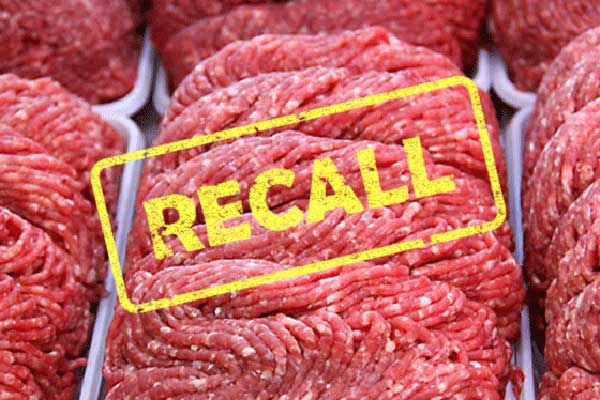ground_beef: (156, 272, 481, 388), (1, 21, 94, 288), (505, 13, 600, 246), (165, 21, 354, 116)
